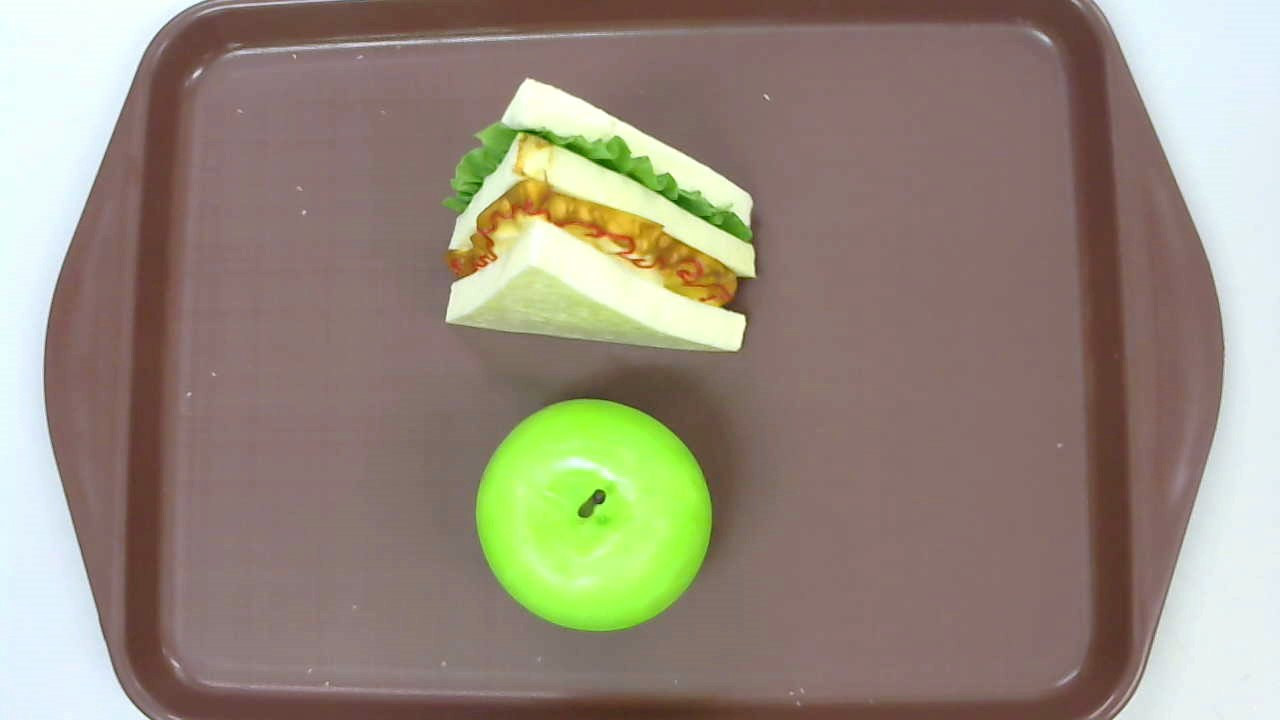green apple: (474, 398, 713, 633)
sandwich: (442, 77, 760, 354)
